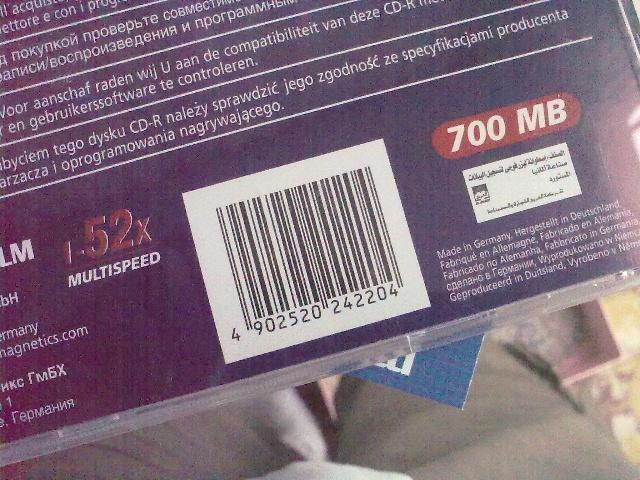Barcode: (211, 163, 408, 346)
